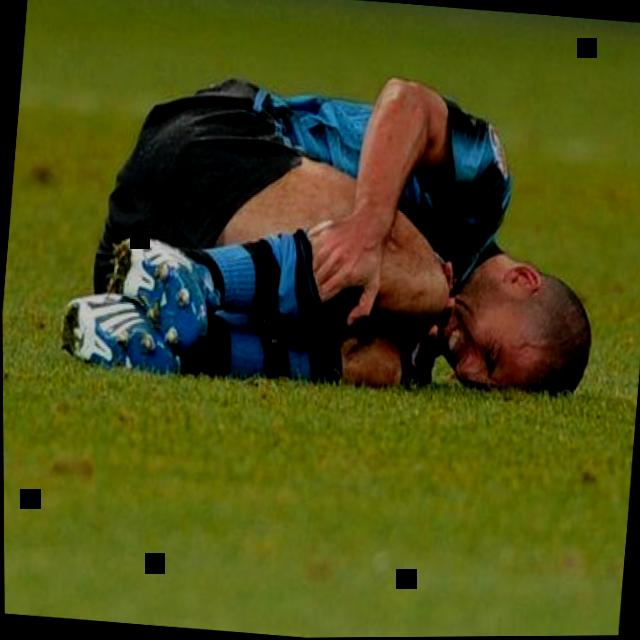Fall-Detected: (52, 15, 611, 423)
